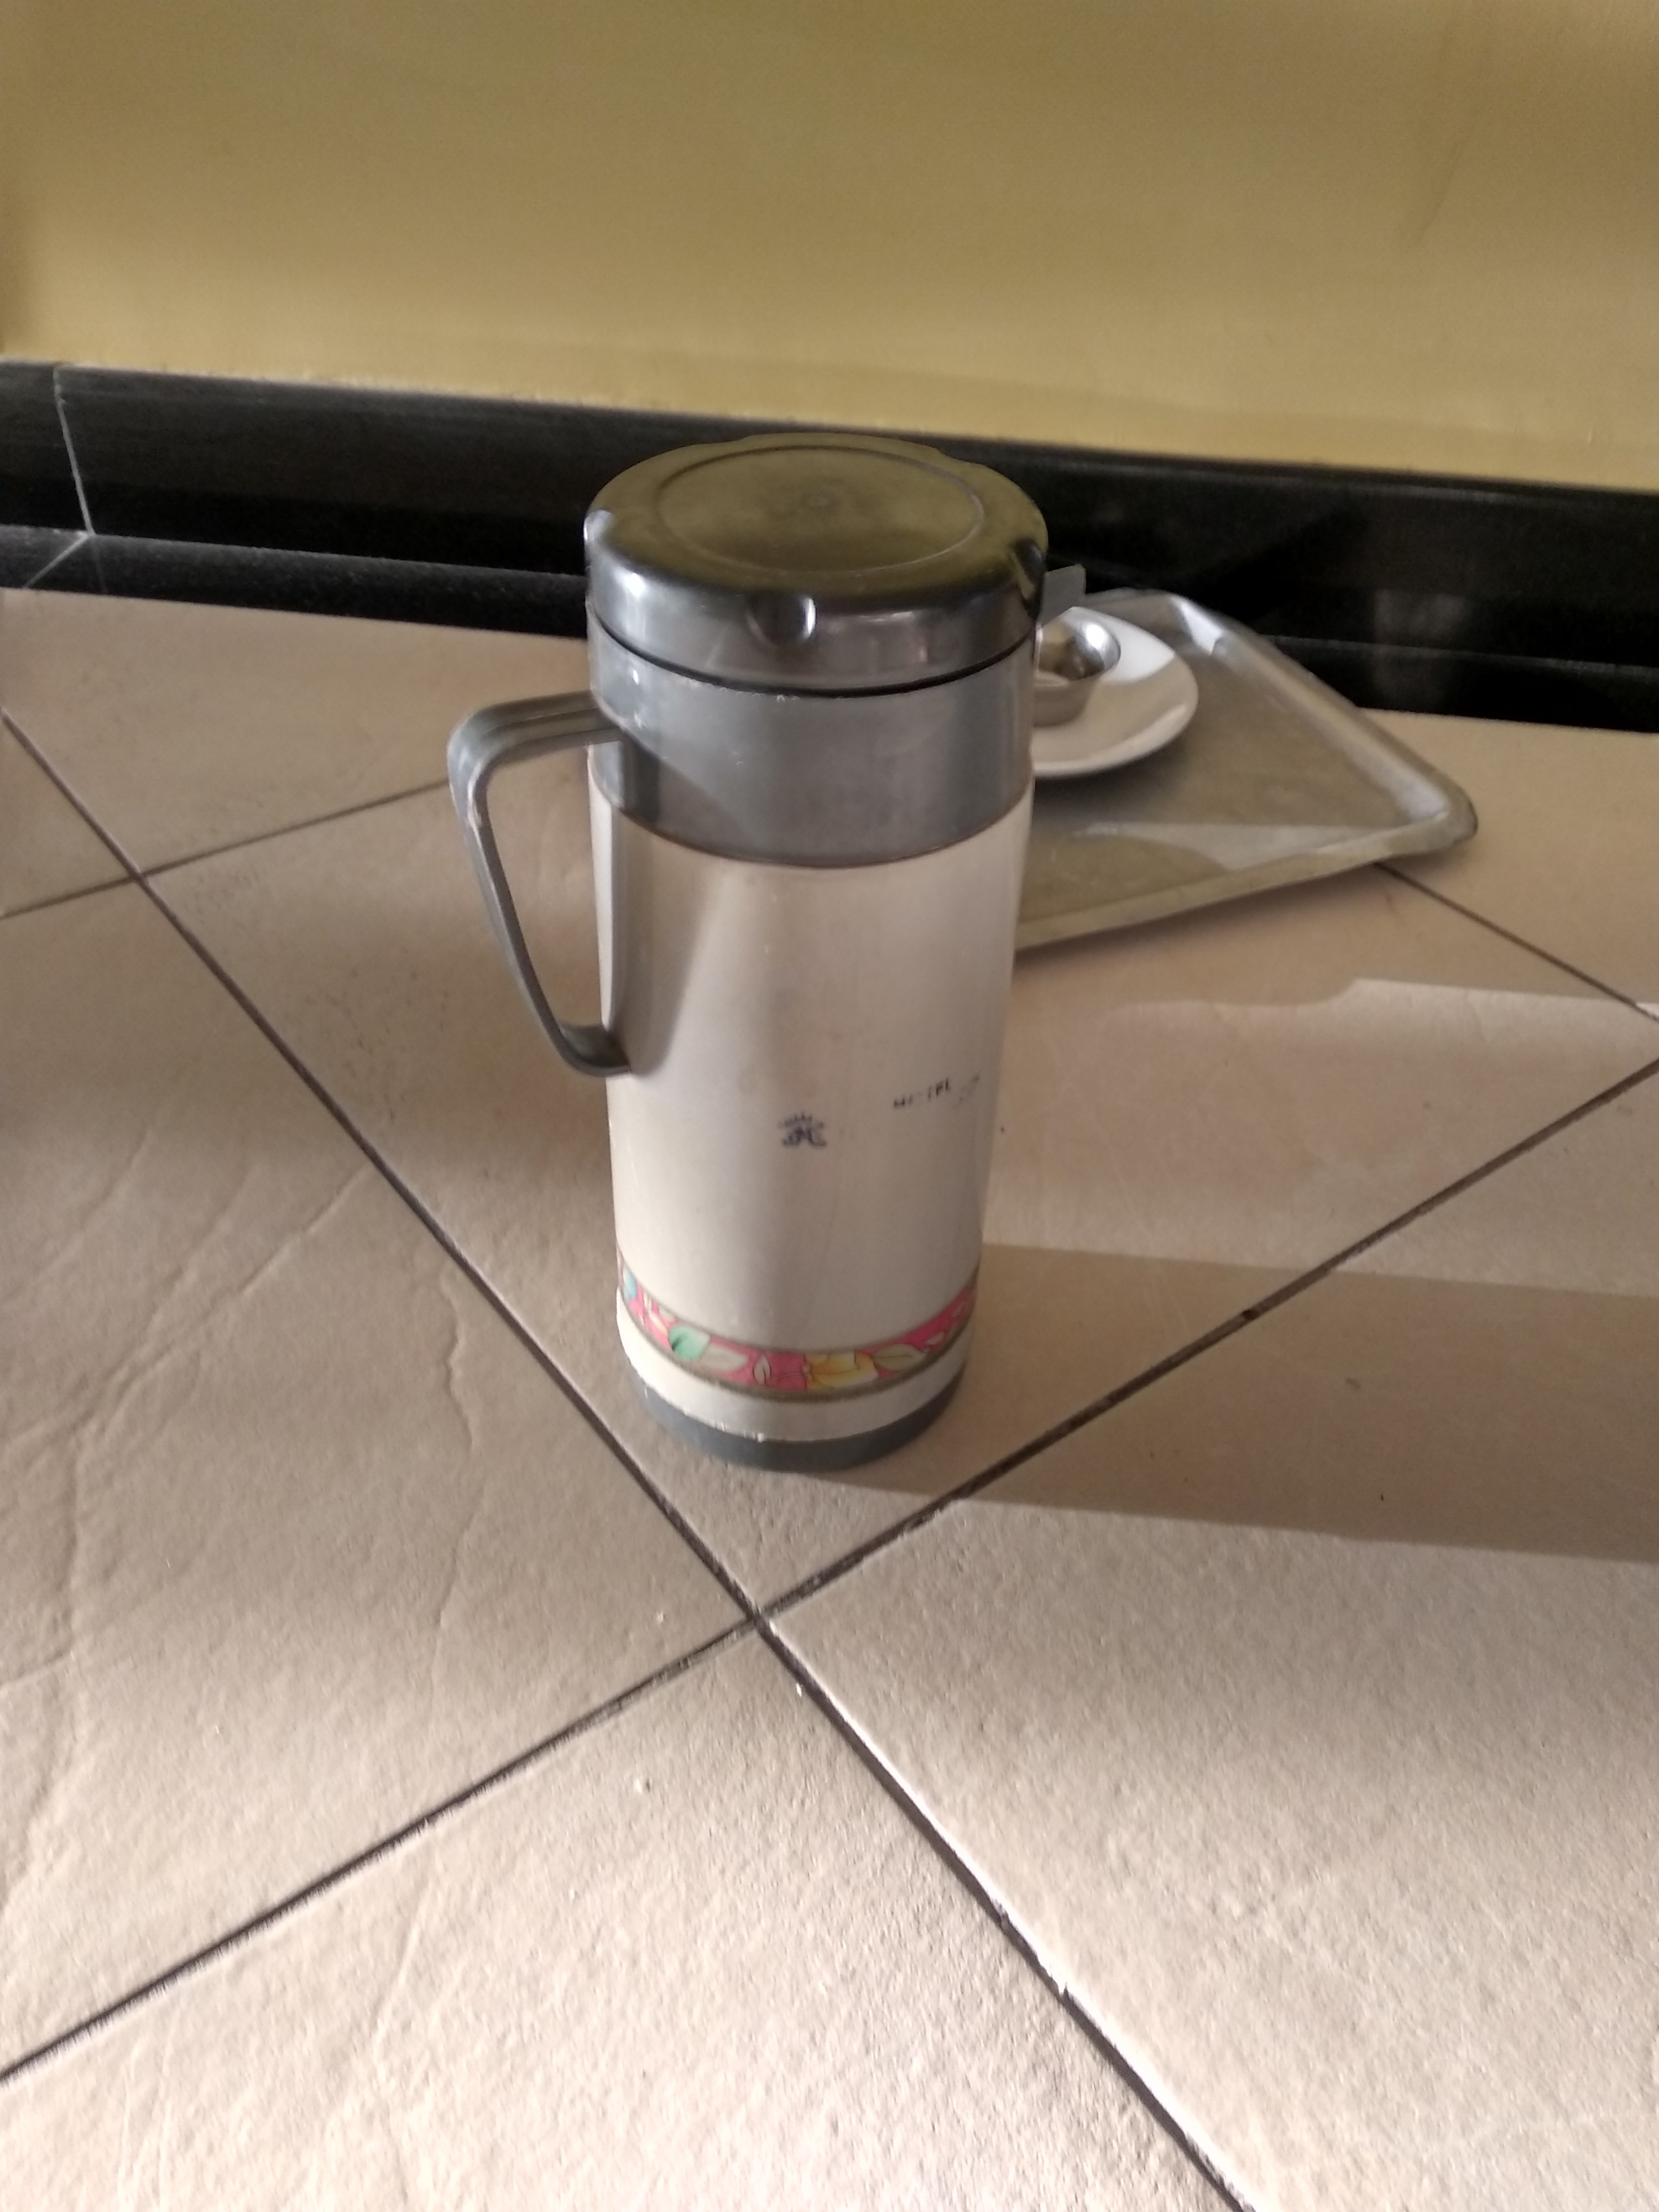JUG: (455, 416, 1068, 1493)
